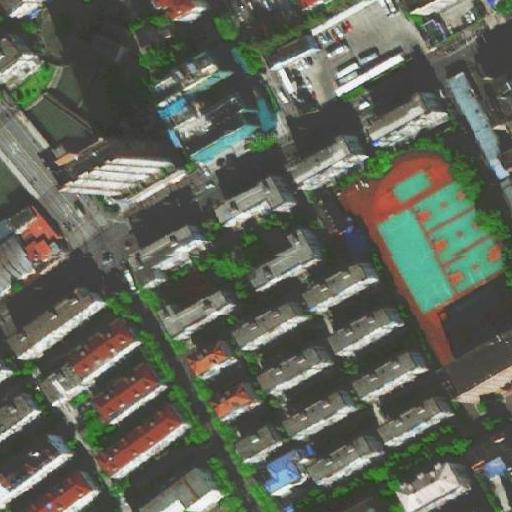building: (101, 397, 194, 481), (42, 321, 138, 402), (10, 285, 104, 357), (450, 73, 511, 179), (88, 354, 169, 428), (86, 145, 175, 212), (1, 205, 68, 281), (174, 101, 255, 163), (249, 225, 326, 289), (137, 219, 216, 280), (367, 89, 446, 145), (0, 436, 71, 498), (134, 464, 224, 512), (308, 430, 385, 486), (296, 132, 371, 187), (306, 256, 379, 312), (161, 287, 234, 342), (221, 174, 297, 226), (448, 341, 511, 403), (403, 460, 477, 512), (335, 38, 409, 89), (263, 342, 336, 393), (384, 391, 454, 444), (333, 304, 403, 357), (287, 386, 357, 438), (358, 347, 428, 398), (239, 298, 310, 347), (308, 187, 360, 253), (20, 470, 101, 512), (264, 448, 313, 497), (265, 29, 320, 71), (129, 9, 177, 55), (193, 344, 243, 387), (310, 485, 390, 511), (183, 48, 232, 89), (216, 380, 262, 423), (0, 392, 42, 438), (240, 420, 286, 459), (0, 32, 36, 78), (469, 39, 512, 74), (482, 452, 510, 479), (497, 73, 512, 112)
